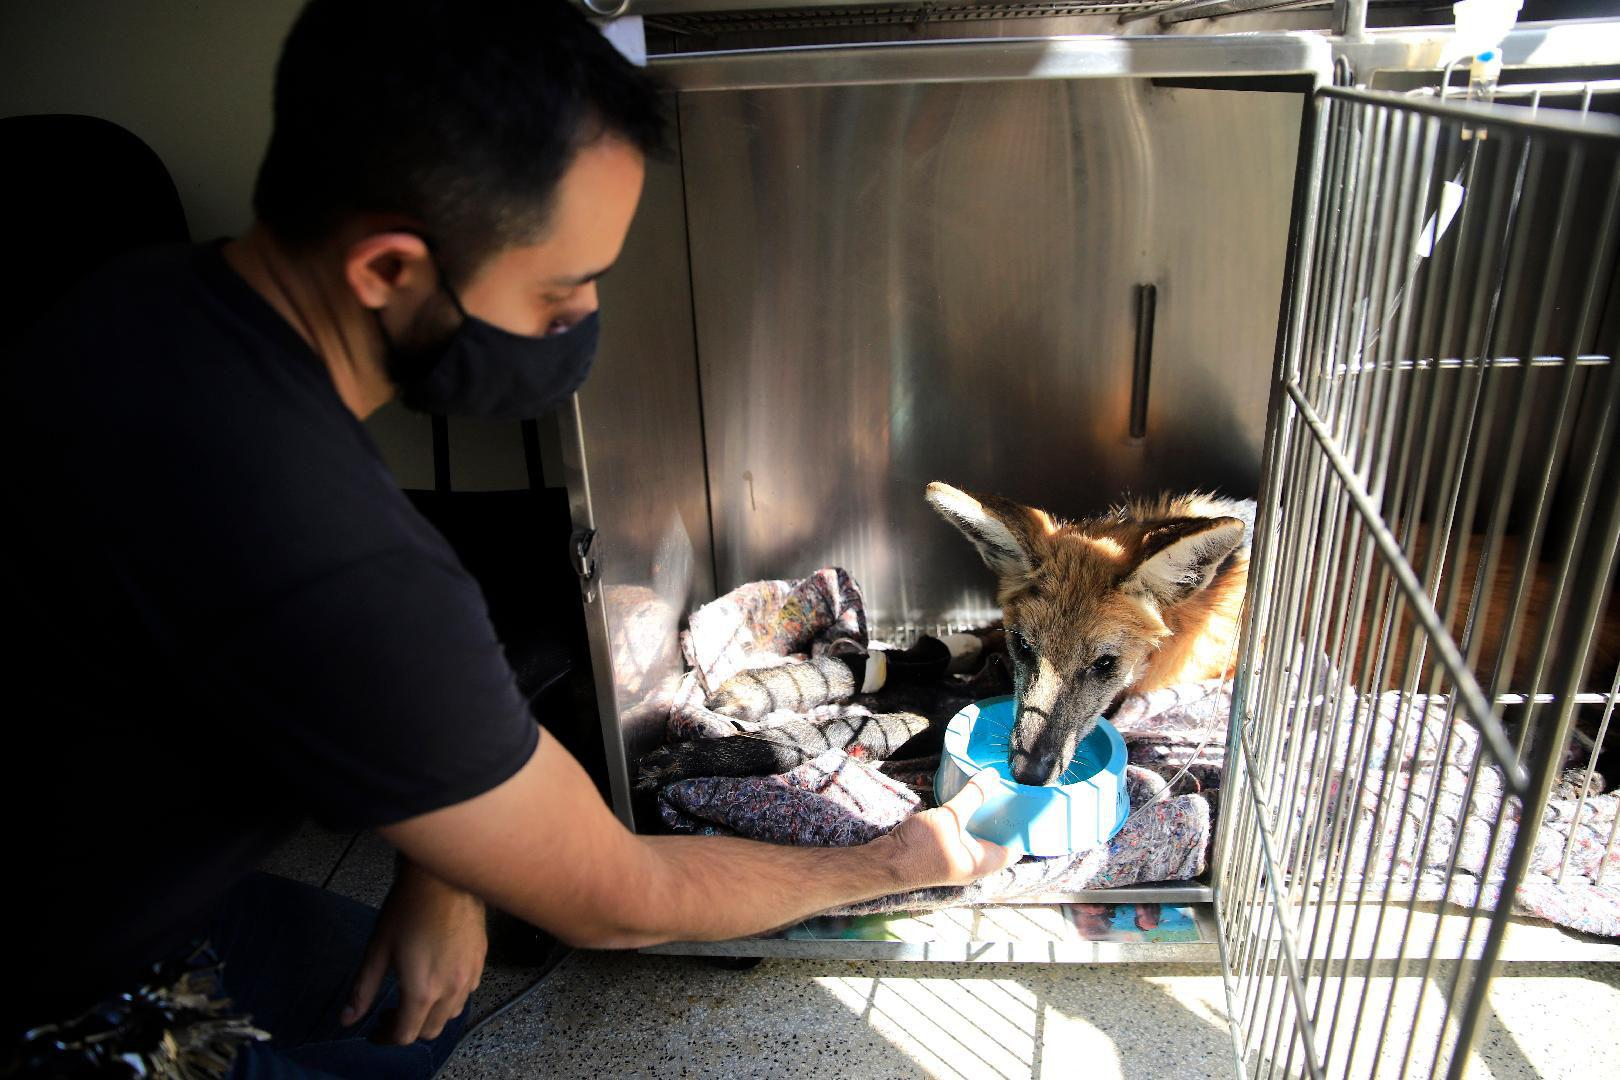LoboGuara: (925, 465, 1267, 792)
